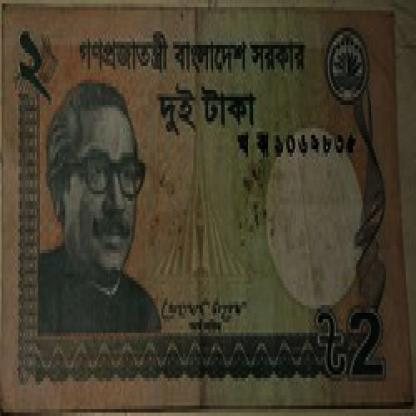two taka: (10, 21, 65, 125), (343, 294, 399, 392)
